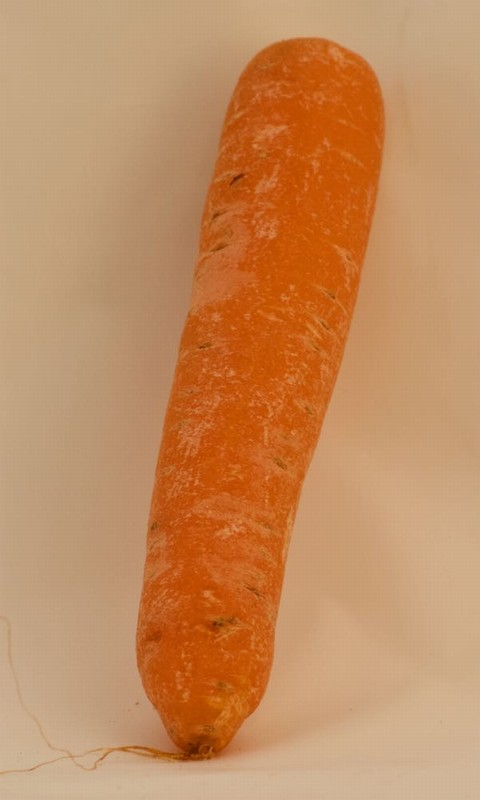carrot: (136, 20, 382, 783)
